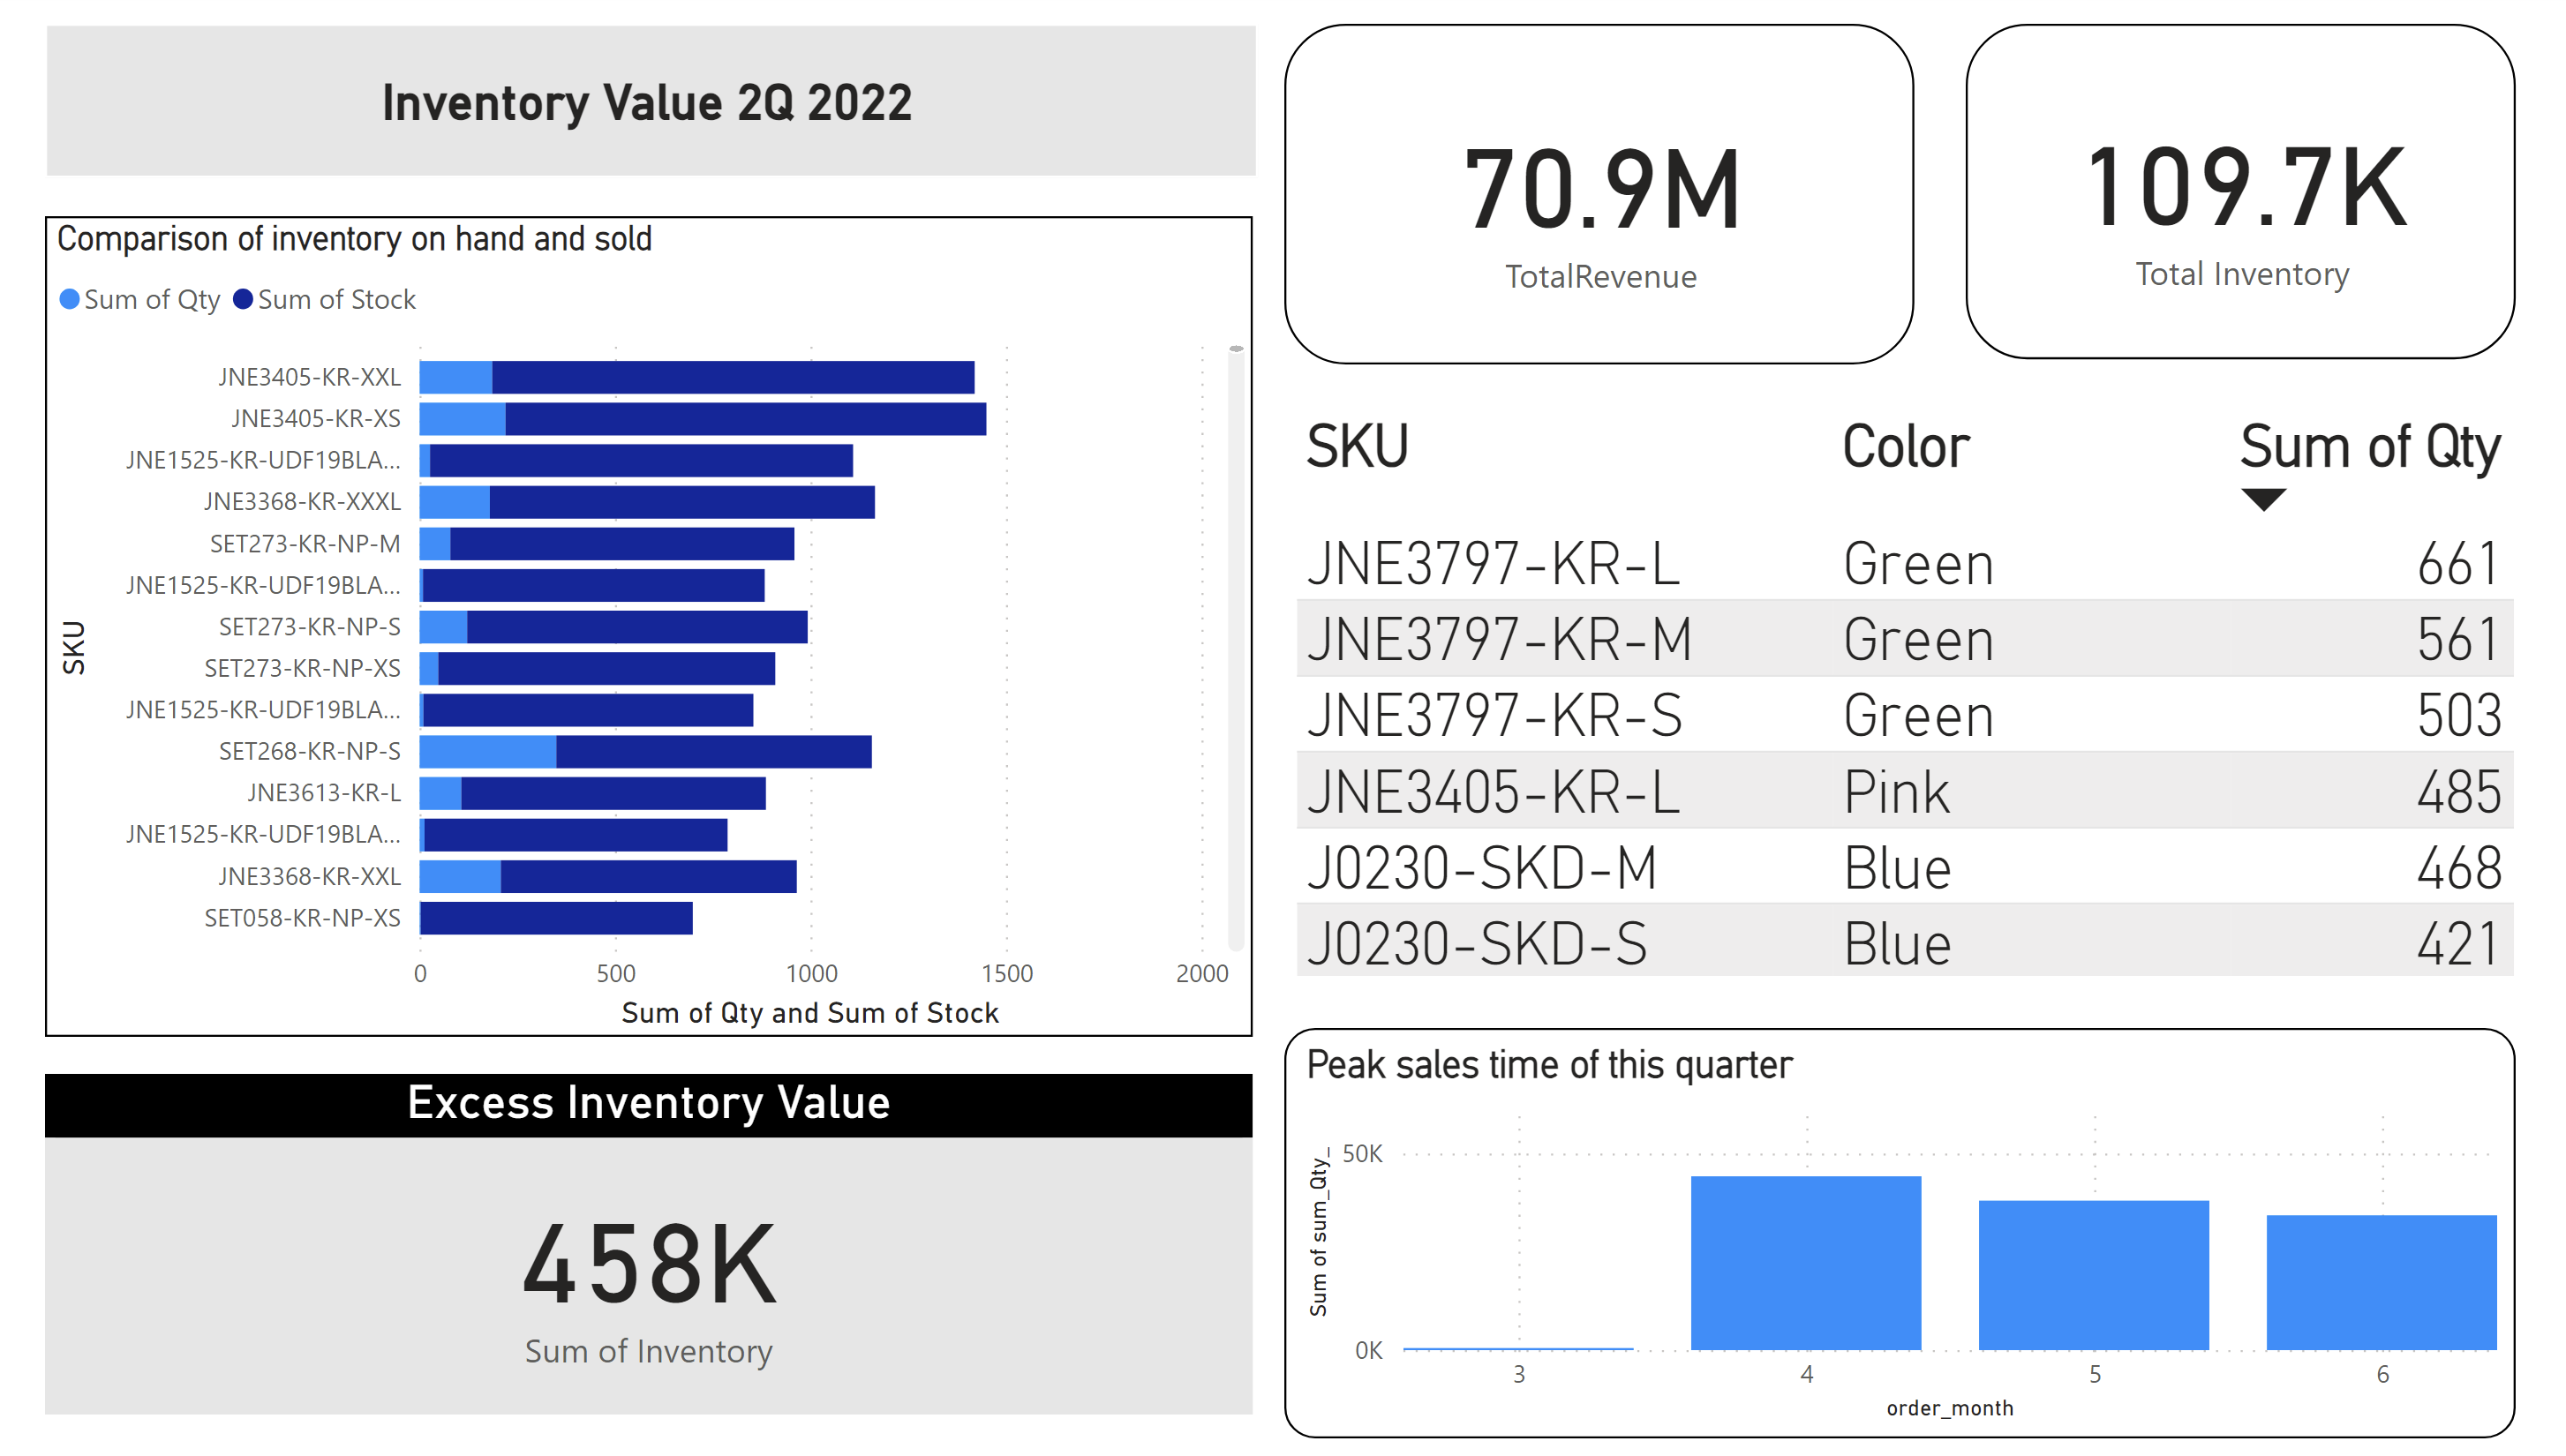

What the dashboard file says about the page in this screenshot:
{"tool":"powerbi","page":{"name":"Page 1","canvas":[1280,720],"ordinal":0},"visuals":[{"type":"textbox","box":[34.1,15.9,590.9,75],"z":0},{"type":"barChart","title":" Comparison of inventory on hand and sold","fields":{"Category":["best_revenue.SKU"],"Y":["Sum(best_revenue.sum_Qty_)","Sum(best_revenue.Stock)"]},"box":[34.1,109.1,588.6,400],"z":1000},{"type":"card","title":"Excess Inventory Value","fields":{"Values":["Sum(Inventory_value (2).Inventory_value)"]},"box":[34.1,527.3,588.6,165.9],"z":2000},{"type":"card","title":"To","fields":{"Values":["Sum(best_revenue.TotalRevenue)"]},"box":[638.6,15.9,306.8,165.9],"z":3000},{"type":"card","title":"To","fields":{"Values":["Sum(best_revenue.sum_Qty_)"]},"box":[970.3,15.5,268.4,163.9],"z":4000},{"type":"tableEx","fields":{"Values":["best_revenue.SKU","best_revenue.Color","Sum(best_revenue.sum_Qty_)"]},"box":[638.7,192.3,638.7,286.5],"z":5000},{"type":"clusteredColumnChart","title":"Peak sales time of this quarter","fields":{"Category":["monthly_sales.order_month"],"Y":["Sum(monthly_sales.sum_Qty_)"]},"box":[638.6,504.5,600,200],"z":6000}]}

Visuals, with their boxes in screenshot pixels (x1, y1, x2, y2), scaled from the page's 1280x720 canvas onto the 2566x1456 screenshot:
textbox: 68, 32, 1253, 184
" Comparison of inventory on hand and sold" barChart: 68, 221, 1248, 1030
"Excess Inventory Value" card: 68, 1066, 1248, 1402
"To" card: 1280, 32, 1895, 368
"To" card: 1945, 32, 2483, 363
tableEx - best_revenue.SKU x best_revenue.Color: 1281, 389, 2561, 968
"Peak sales time of this quarter" clusteredColumnChart: 1280, 1020, 2483, 1424
